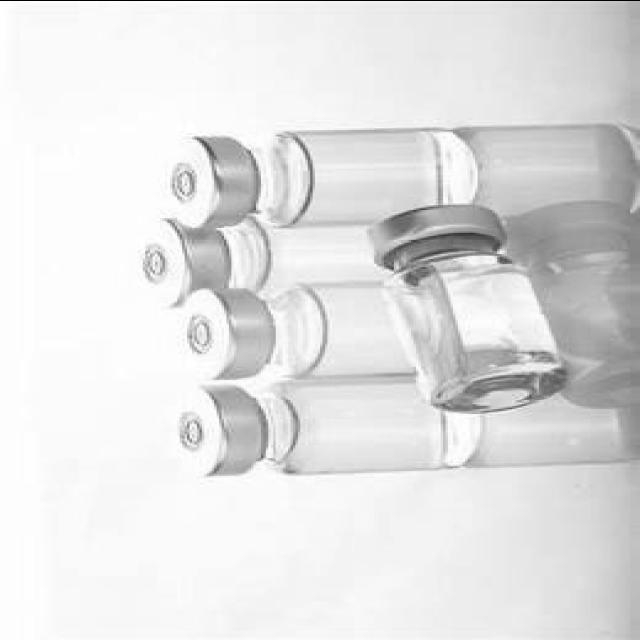vial: (368, 197, 496, 266), (166, 140, 252, 222), (176, 296, 246, 380), (174, 393, 241, 478), (146, 226, 206, 303)
